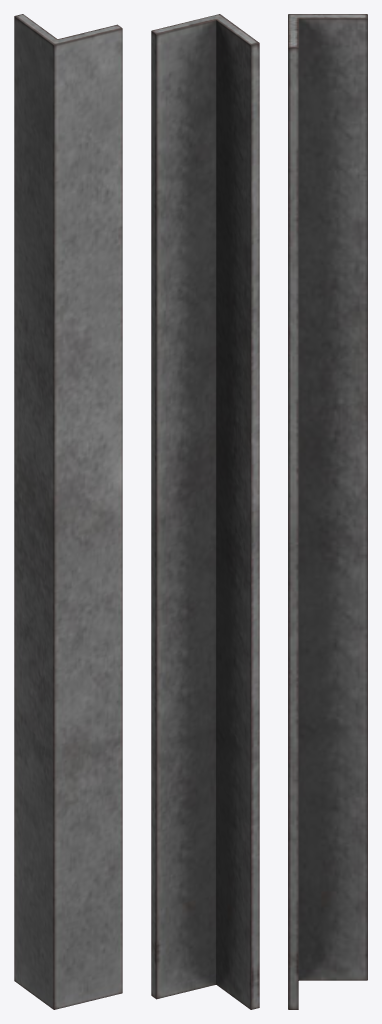
Rendered from Profile3_g.gltf.
The picture shows the model from 3 angles, left to right: view 1: azimuth 30°, elevation 25°; view 2: azimuth 210°, elevation 25°; view 3: azimuth 270°, elevation 25°; orthographic projection.
Parts seen in each view (by area): view 1: Angle002; view 2: Angle002; view 3: Angle002.
Part boxes in pixels (x1,y1,x2,y2): Angle002: [14, 14, 122, 1009]; Angle002: [151, 14, 259, 1009]; Angle002: [288, 14, 367, 1009].
Size of the model in its own units: 0.15 by 2 by 0.15.
1 material, 1 textured.
